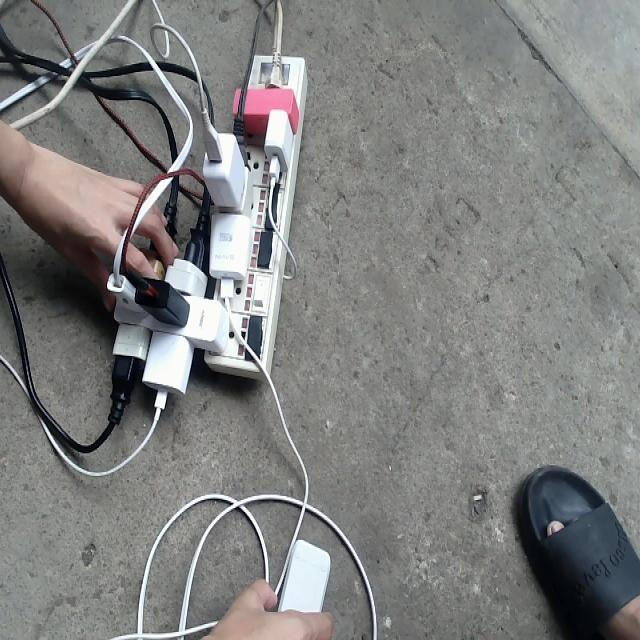-: (101, 56, 308, 403)
